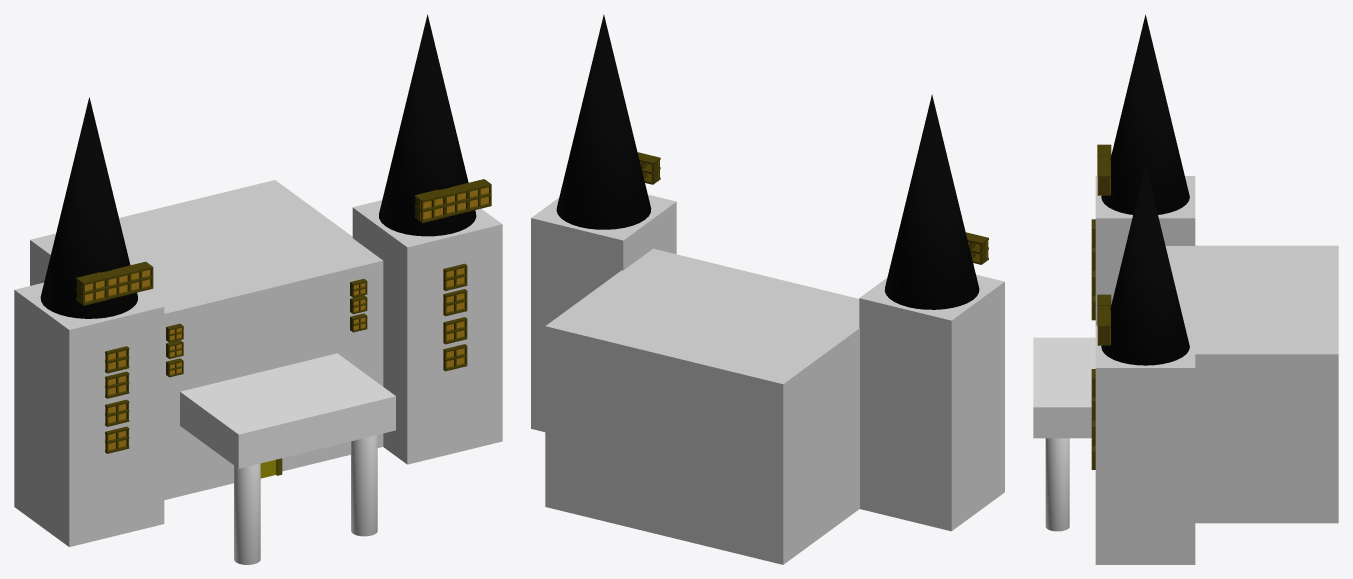
File: MountMassiveAsylum.fbx
3 renders of one model, left to right at view 1: azimuth 30°, elevation 25°; view 2: azimuth 150°, elevation 25°; view 3: azimuth 270°, elevation 25°, orthographic. The views are drawn at different scales.
Parts seen in each view (by area): view 1: Cube.024, Cube.012, Cube, Cube.039, Cone, Cone.006, Cylinder, Cylinder.001, Cube.002, Cube.014; view 2: Cube.024, Cube.012, Cube, Cone, Cone.006; view 3: Cube.024, Cube, Cone, Cone.006, Cube.039, Cube.012, Cylinder.001, Cube.042, Cube.046.
Part boxes in pixels (x1=…): Cube.024: x1=30, y1=180, x2=383, y2=499; Cube.012: x1=14, y1=282, x2=164, y2=546; Cube: x1=352, y1=200, x2=502, y2=464; Cube.039: x1=180, y1=353, x2=395, y2=468; Cone: x1=379, y1=14, x2=476, y2=236; Cone.006: x1=40, y1=97, x2=137, y2=318; Cylinder: x1=234, y1=463, x2=260, y2=564; Cylinder.001: x1=351, y1=435, x2=377, y2=536; Cube.002: x1=414, y1=189, x2=445, y2=223; Cube.014: x1=76, y1=272, x2=107, y2=305; Cube.024: x1=545, y1=248, x2=859, y2=564; Cube.012: x1=859, y1=274, x2=1004, y2=531; Cube: x1=531, y1=194, x2=676, y2=431; Cone: x1=556, y1=14, x2=651, y2=229; Cone.006: x1=884, y1=94, x2=979, y2=309; Cube.024: x1=1165, y1=245, x2=1338, y2=523; Cube: x1=1095, y1=325, x2=1195, y2=564; Cone: x1=1101, y1=164, x2=1189, y2=365; Cone.006: x1=1101, y1=14, x2=1189, y2=214; Cube.039: x1=1033, y1=337, x2=1095, y2=438; Cube.012: x1=1095, y1=176, x2=1195, y2=325; Cylinder.001: x1=1045, y1=438, x2=1069, y2=531; Cube.042: x1=1097, y1=315, x2=1110, y2=345; Cube.046: x1=1097, y1=165, x2=1110, y2=195.
Bounding box in the file's own units: 911 × 912 × 613.
